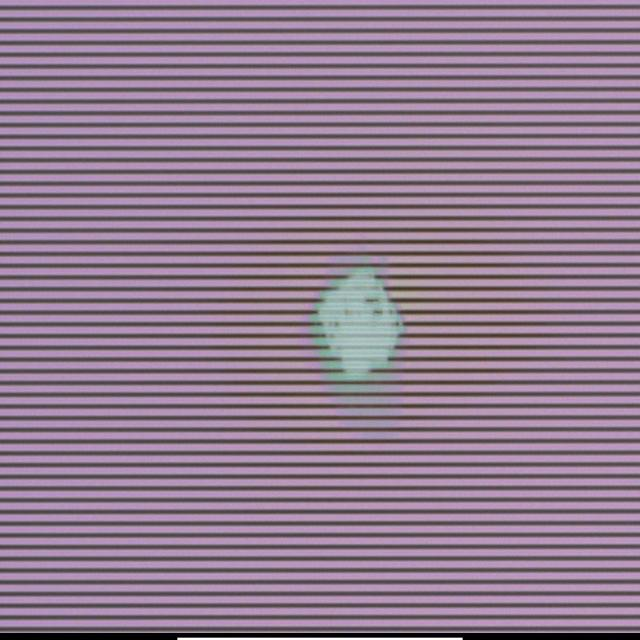03_intrusion: (309, 256, 407, 389)
